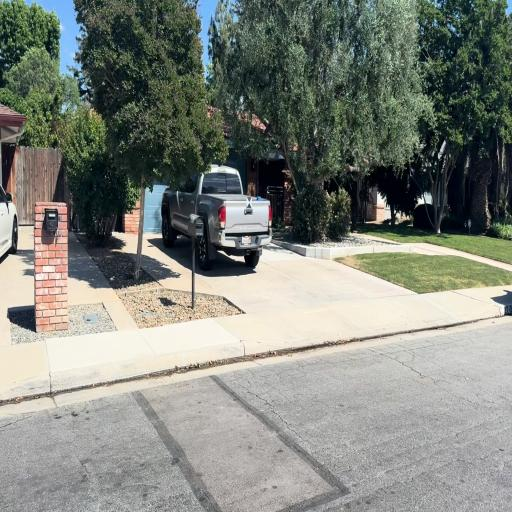target1: (246, 197, 252, 209)
